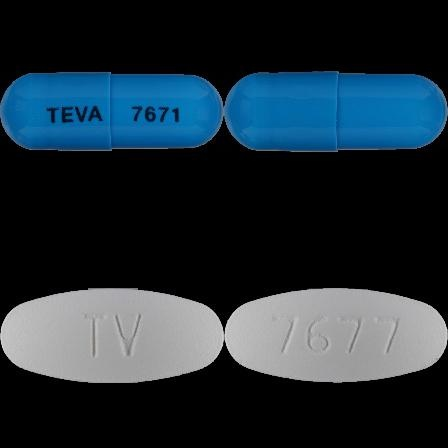0093-7671: (0, 0, 224, 224)
